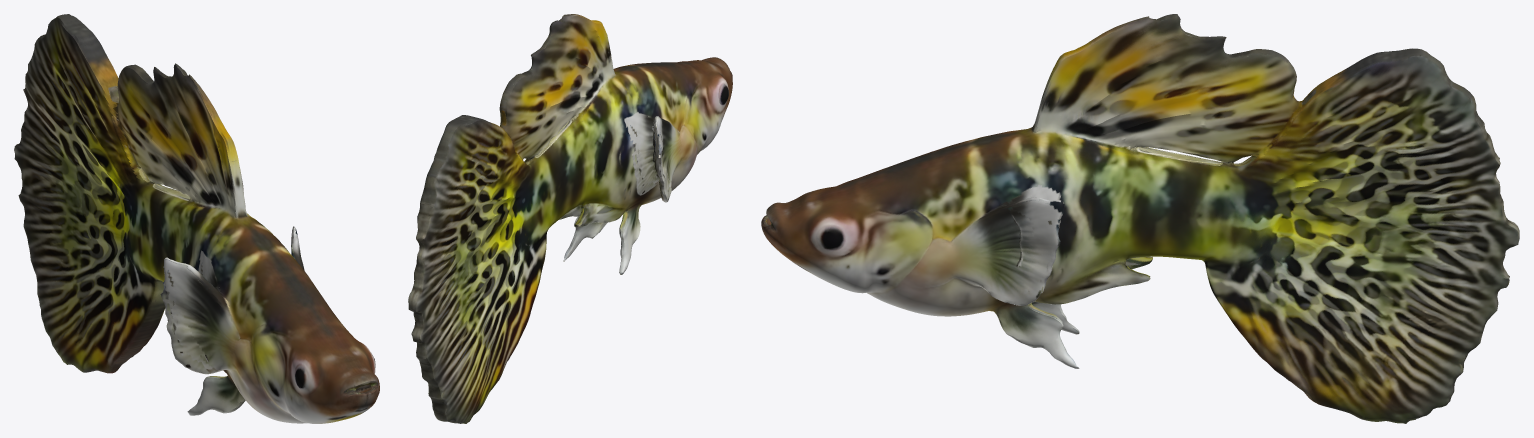
File: guppy_yellow_tiger_mesh.glb
The picture shows the model from 3 angles, left to right: view 1: azimuth 30°, elevation 25°; view 2: azimuth 150°, elevation 25°; view 3: azimuth 270°, elevation 25°; orthographic projection. The views are drawn at different scales.
Visible parts, largest first — view 1: Mesh0; view 2: Mesh0; view 3: Mesh0.
Part boxes in pixels (bbox=[...]): Mesh0: bbox=[14, 14, 379, 423]; Mesh0: bbox=[408, 14, 732, 423]; Mesh0: bbox=[761, 14, 1519, 423].
Bounding box in the file's own units: 0.4579 × 1.19 × 2.
Materials: 1 (1 with a texture image).
